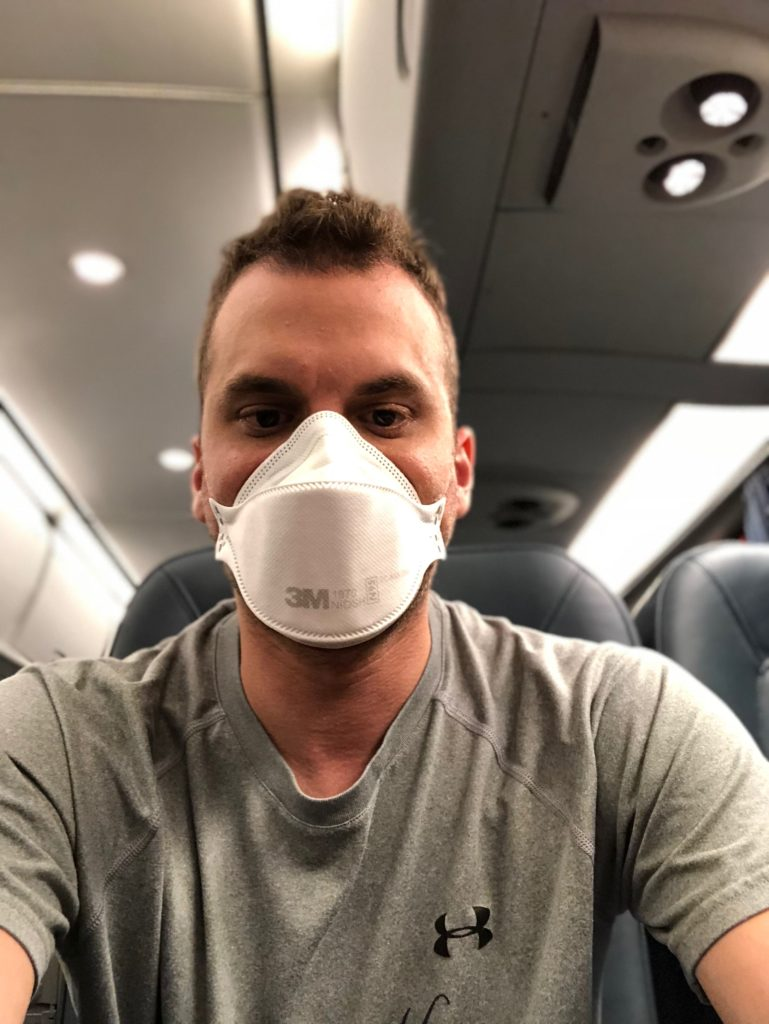n95: (196, 410, 455, 653)
